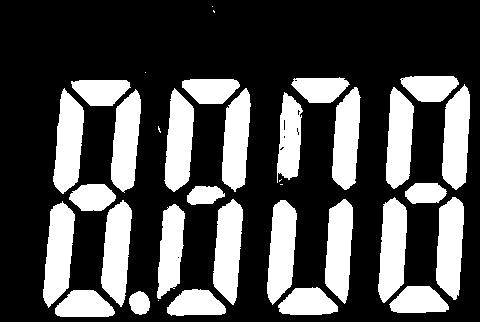0: (266, 76, 360, 316)
8: (43, 76, 143, 320), (378, 74, 470, 315), (158, 77, 250, 315)
dot: (128, 287, 153, 318)
